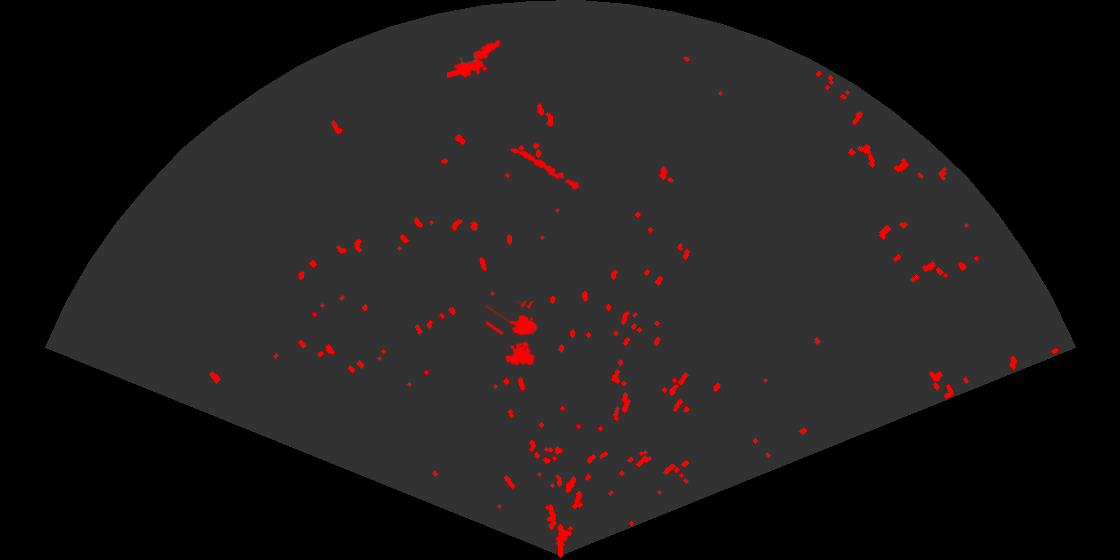cage: (486, 301, 539, 367)
chain: (509, 146, 588, 195)
frogman: (447, 39, 503, 80)
